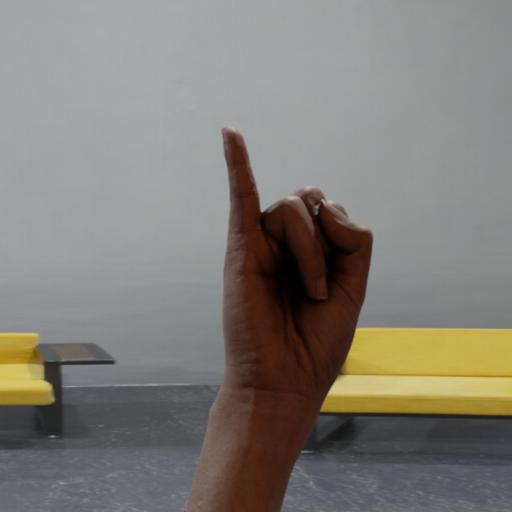I: (200, 114, 392, 421)
